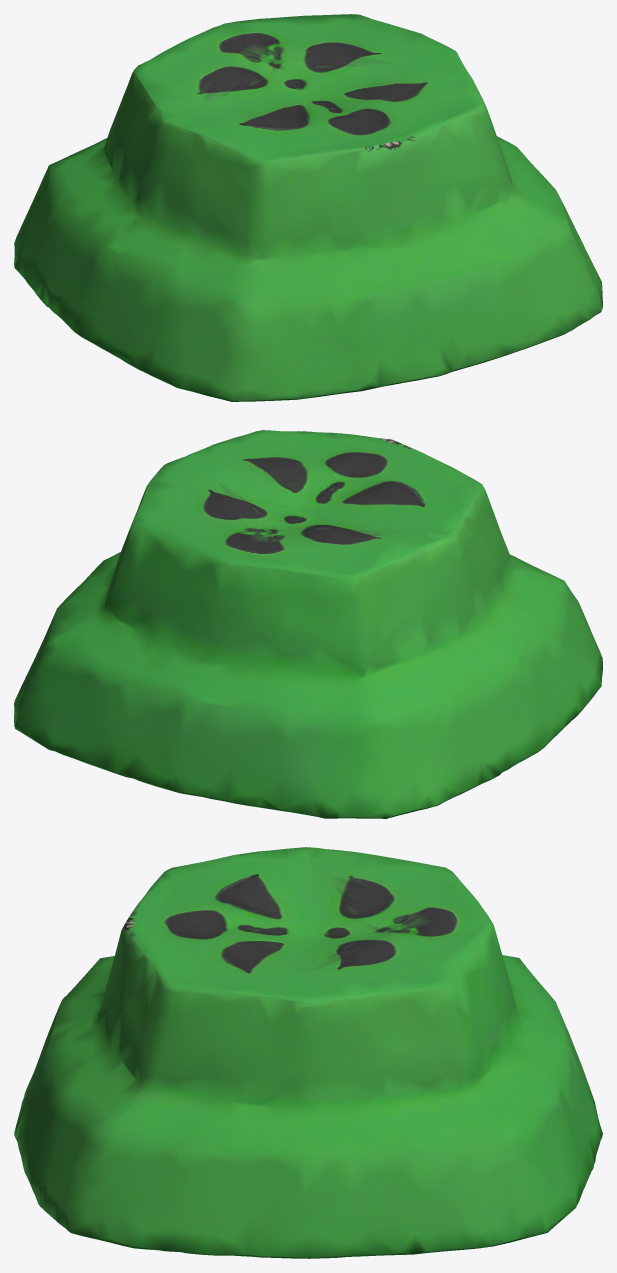
Rendered from Meshy_AI_Geometric_Blue_Hat_1216171921_texture.fbx.
3 renders of one model, top to bottom at view 1: azimuth 30°, elevation 25°; view 2: azimuth 150°, elevation 25°; view 3: azimuth 270°, elevation 25°, orthographic. The views are drawn at different scales.
Parts seen in each view (by area): view 1: Mesh_0; view 2: Mesh_0; view 3: Mesh_0.
Boxes of the visible parts, box(x1,y1,x2,y2) form: Mesh_0: box(14, 14, 602, 401); Mesh_0: box(14, 430, 602, 818); Mesh_0: box(14, 847, 602, 1258).
Size of the model in its own units: 199 by 79.59 by 199.
Materials: 1 (1 with a texture image).
